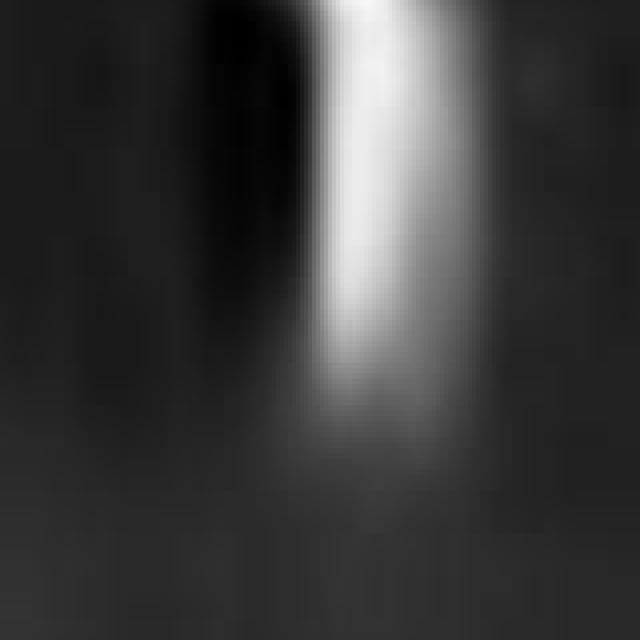person: (229, 1, 509, 460)
